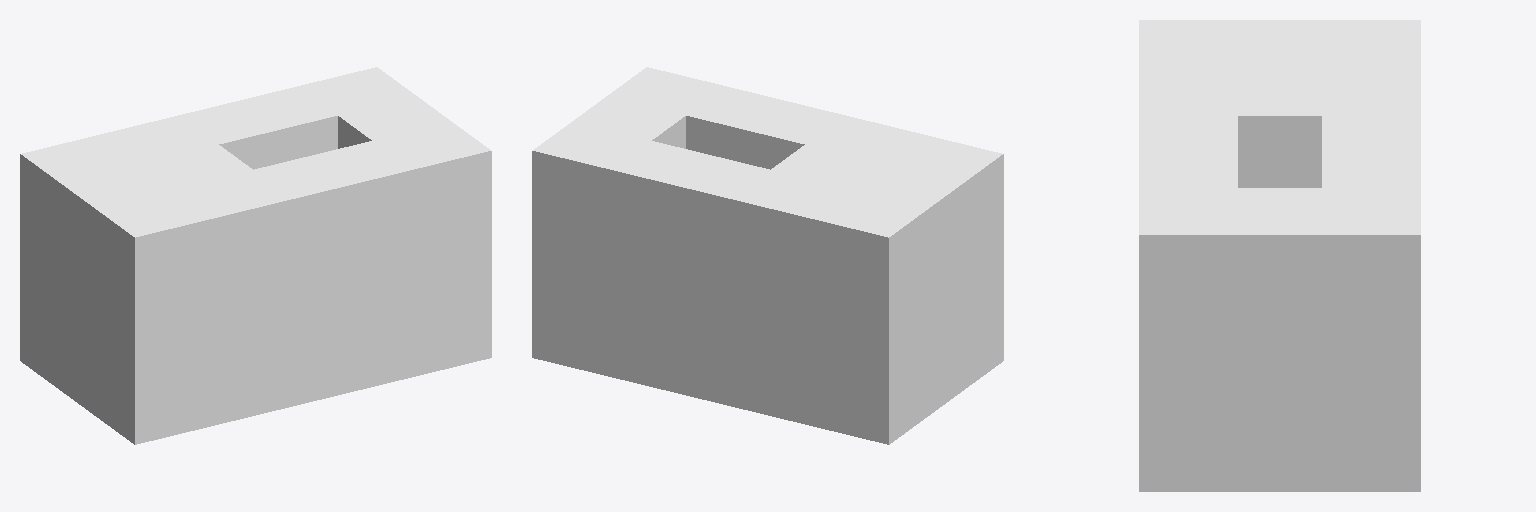
robot.urdf — tribot_description:
<?xml version="1.0" encoding="utf-8"?>
<!-- This URDF was automatically created by SolidWorks to URDF Exporter! Originally created by [author] ([email redacted]) 
     Commit Version: 1.6.0-4-g7f85cfe  Build Version: 1.6.7995.38578
     For more information, please see http://wiki.ros.org/sw_urdf_exporter -->
<robot
  name="tribot_description">
  <link
    name="base_link">
    <inertial>
      <origin
        xyz="-0.0142603857901154 0.0599787969233426 1.44010907857361E-17"
        rpy="0 0 0" />
      <mass
        value="0.664049355983333" />
      <inertia
        ixx="0.0018092011652393"
        ixy="5.86355846547153E-05"
        ixz="-6.25148858144493E-19"
        iyy="0.00242024125021245"
        iyz="6.82341546852814E-19"
        izz="0.00185445818753784" />
    </inertial>
    <visual>
      <origin
        xyz="0 0 0"
        rpy="0 0 0" />
      <geometry>
        <mesh
          filename="package://tribot_description/meshes/base_link.STL" />
      </geometry>
      <material
        name="">
        <color
          rgba="1 1 1 1" />
      </material>
    </visual>
    <collision>
      <origin
        xyz="0 0 0"
        rpy="0 0 0" />
      <geometry>
        <mesh
          filename="package://tribot_description/meshes/base_link.STL" />
      </geometry>
    </collision>
  </link>

  <link
    name="wheel1_link">
    <inertial>
      <origin
        xyz="-7.80625564189563E-18 0.00749999999999999 3.46944695195361E-18"
        rpy="0 0 0" />
      <mass
        value="0.0241745554693735" />
      <inertia
        ixx="3.74705609775289E-06"
        ixy="-8.52717906119514E-23"
        ixz="2.11758236813575E-22"
        iyy="6.58756636540427E-06"
        iyz="-4.61715353010736E-22"
        izz="3.74705609775289E-06" />
    </inertial>
    <visual>
      <origin
        xyz="0 0 0"
        rpy="0 0 0" />
      <geometry>
        <mesh
          filename="package://tribot_description/meshes/wheel1_link.STL" />
      </geometry>
      <material
        name="">
        <color
          rgba="1 1 1 1" />
      </material>
    </visual>
    <collision>
      <origin
        xyz="0 0 0"
        rpy="0 0 0" />
      <geometry>
        <mesh
          filename="package://tribot_description/meshes/wheel1_link.STL" />
      </geometry>
    </collision>
  </link>
  <joint
    name="wheel1_joint"
    type="continuous">
    <origin
      xyz="0.09 0 0.013"
      rpy="-3.14159265358979 0.437782614461058 1.5707963267949" />
    <parent
      link="base_link" />
    <child
      link="wheel1_link" />
    <axis
      xyz="0 1 0" />
  </joint>

  <link
    name="wheel2_link">
    <inertial>
      <origin
        xyz="1.56125112837913E-17 -0.0354359291783573 2.08166817117217E-17"
        rpy="0 0 0" />
      <mass
        value="0.0241745554693735" />
      <inertia
        ixx="3.74705609775289E-06"
        ixy="-1.05879118406788E-22"
        ixz="4.76456032830544E-22"
        iyy="6.58756636540427E-06"
        iyz="-6.35274710440725E-22"
        izz="3.74705609775289E-06" />
    </inertial>
    <visual>
      <origin
        xyz="0 0 0"
        rpy="0 0 0" />
      <geometry>
        <mesh
          filename="package://tribot_description/meshes/wheel2_link.STL" />
      </geometry>
      <material
        name="">
        <color
          rgba="1 1 1 1" />
      </material>
    </visual>
    <collision>
      <origin
        xyz="0 0 0"
        rpy="0 0 0" />
      <geometry>
        <mesh
          filename="package://tribot_description/meshes/wheel2_link.STL" />
      </geometry>
    </collision>
  </link>
  <joint
    name="wheel2_joint"
    type="continuous">
    <origin
      xyz="-0.0310320354108216 0.053749061993819 0.013"
      rpy="0 0.656633921478255 -2.61799387799149" />
    <parent
      link="base_link" />
    <child
      link="wheel2_link" />
    <axis
      xyz="0 -1 0" />
  </joint>

  <link
    name="wheel3_link">
    <inertial>
      <origin
        xyz="-3.46944695195361E-18 -0.00375000000000011 1.73472347597681E-17"
        rpy="0 0 0" />
      <mass
        value="0.0241745554693735" />
      <inertia
        ixx="3.74705609775289E-06"
        ixy="-4.76456032830544E-22"
        ixz="2.91167575618666E-22"
        iyy="6.58756636540428E-06"
        iyz="-1.37642853928824E-21"
        izz="3.74705609775289E-06" />
    </inertial>
    <visual>
      <origin
        xyz="0 0 0"
        rpy="0 0 0" />
      <geometry>
        <mesh
          filename="package://tribot_description/meshes/wheel3_link.STL" />
      </geometry>
      <material
        name="">
        <color
          rgba="1 1 1 1" />
      </material>
    </visual>
    <collision>
      <origin
        xyz="0 0 0"
        rpy="0 0 0" />
      <geometry>
        <mesh
          filename="package://tribot_description/meshes/wheel3_link.STL" />
      </geometry>
    </collision>
  </link>
  <joint
    name="wheel3_joint"
    type="continuous">
    <origin
      xyz="-0.0468749999999992 -0.0811898816047915 0.013"
      rpy="0 0.98745546738505 -0.52359877559829" />
    <parent
      link="base_link" />
    <child
      link="wheel3_link" />
    <axis
      xyz="0 -1 0" />
  </joint>

  <link
    name="lidar_link">
    <inertial>
      <origin
        xyz="1.36434720762685E-05 0.0180105175170171 3.7540882202375E-19"
        rpy="0 0 0" />
      <mass
        value="0.109869393334793" />
      <inertia
        ixx="4.09822179723856E-05"
        ixy="-3.44612342419914E-08"
        ixz="9.88106304040592E-23"
        iyy="5.0549647269255E-05"
        iyz="4.05894620495472E-21"
        izz="4.1009202270821E-05" />
    </inertial>
    <visual>
      <origin
        xyz="0 0 0"
        rpy="0 0 0" />
      <geometry>
        <mesh
          filename="package://tribot_description/meshes/lidar_link.STL" />
      </geometry>
      <material
        name="">
        <color
          rgba="1 1 1 1" />
      </material>
    </visual>
    <collision>
      <origin
        xyz="0 0 0"
        rpy="0 0 0" />
      <geometry>
        <mesh
          filename="package://tribot_description/meshes/lidar_link.STL" />
      </geometry>
    </collision>
  </link>
  <joint
    name="lidar_joint"
    type="fixed">
    <origin
      xyz="0 0 0.109"
      rpy="1.5707963267949 0 0" />
    <parent
      link="base_link" />
    <child
      link="lidar_link" />
    <axis
      xyz="0 0 0" />
  </joint>
  
  <link
    name="camera_link">
    <inertial>
      <origin
        xyz="9.73715840950623E-05 0.00766324059686525 0.00320483732373046"
        rpy="0 0 0" />
      <mass
        value="0.0351031857894892" />
      <inertia
        ixx="4.87742489758018E-06"
        ixy="-3.19135366871549E-08"
        ixz="1.09543032106934E-08"
        iyy="2.07013958270657E-05"
        iyz="1.83645671473405E-08"
        izz="1.72263336361694E-05" />
    </inertial>
    <visual>
      <origin
        xyz="0 0 0"
        rpy="0 0 0" />
      <geometry>
        <mesh
          filename="package://tribot_description/meshes/camera_link.STL" />
      </geometry>
      <material
        name="">
        <color
          rgba="1 1 1 1" />
      </material>
    </visual>
    <collision>
      <origin
        xyz="0 0 0"
        rpy="0 0 0" />
      <geometry>
        <mesh
          filename="package://tribot_description/meshes/camera_link.STL" />
      </geometry>
    </collision>
  </link>
  <joint
    name="camera_joint"
    type="fixed">
    <origin
      xyz="0.085 0 0.0785"
      rpy="3.14159265358979 0 1.5707963267949" />
    <parent
      link="base_link" />
    <child
      link="camera_link" />
    <axis
      xyz="0 0 0" />
  </joint>
</robot>

--- What the picture shows (computed from the rendered views, not written in the file) ---
The picture shows the robot from 3 angles, left to right: view 1: azimuth 30°, elevation 25°; view 2: azimuth 150°, elevation 25°; view 3: azimuth 270°, elevation 25°; orthographic projection.
Model tribot_description with 6 links and 5 joints (3 continuous, 2 fixed), rooted at base_link, posed all joints at 0.
Links seen in each view (by area): view 1: base_link; view 2: base_link; view 3: base_link.
Link boxes in pixels (<box>): base_link: <box>20,67,491,444</box>; base_link: <box>532,67,1003,444</box>; base_link: <box>1139,20,1420,491</box>.
Bounding box of the posed robot: 0.18 × 0.1 × 0.1 m (x, y, z).
Meshes: 6 distinct files referenced, 1 mesh visuals loaded (1 binary STL); not drawn: 5 (reference not matched to a file when rendering).